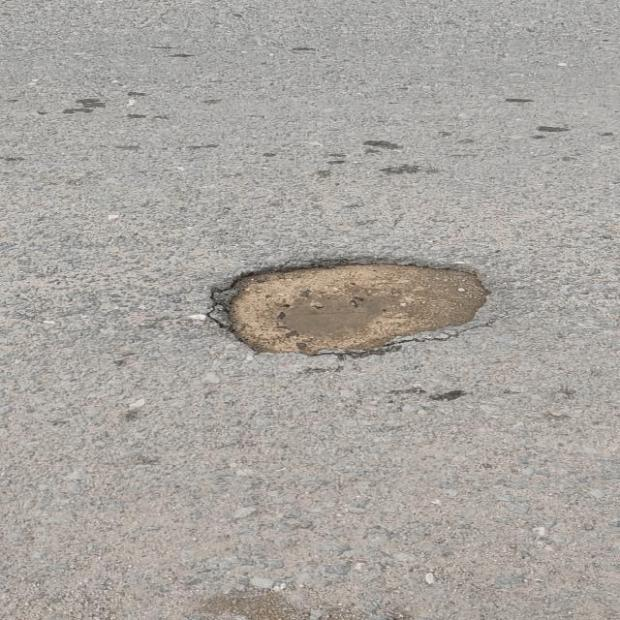lubang: (211, 261, 487, 355)
